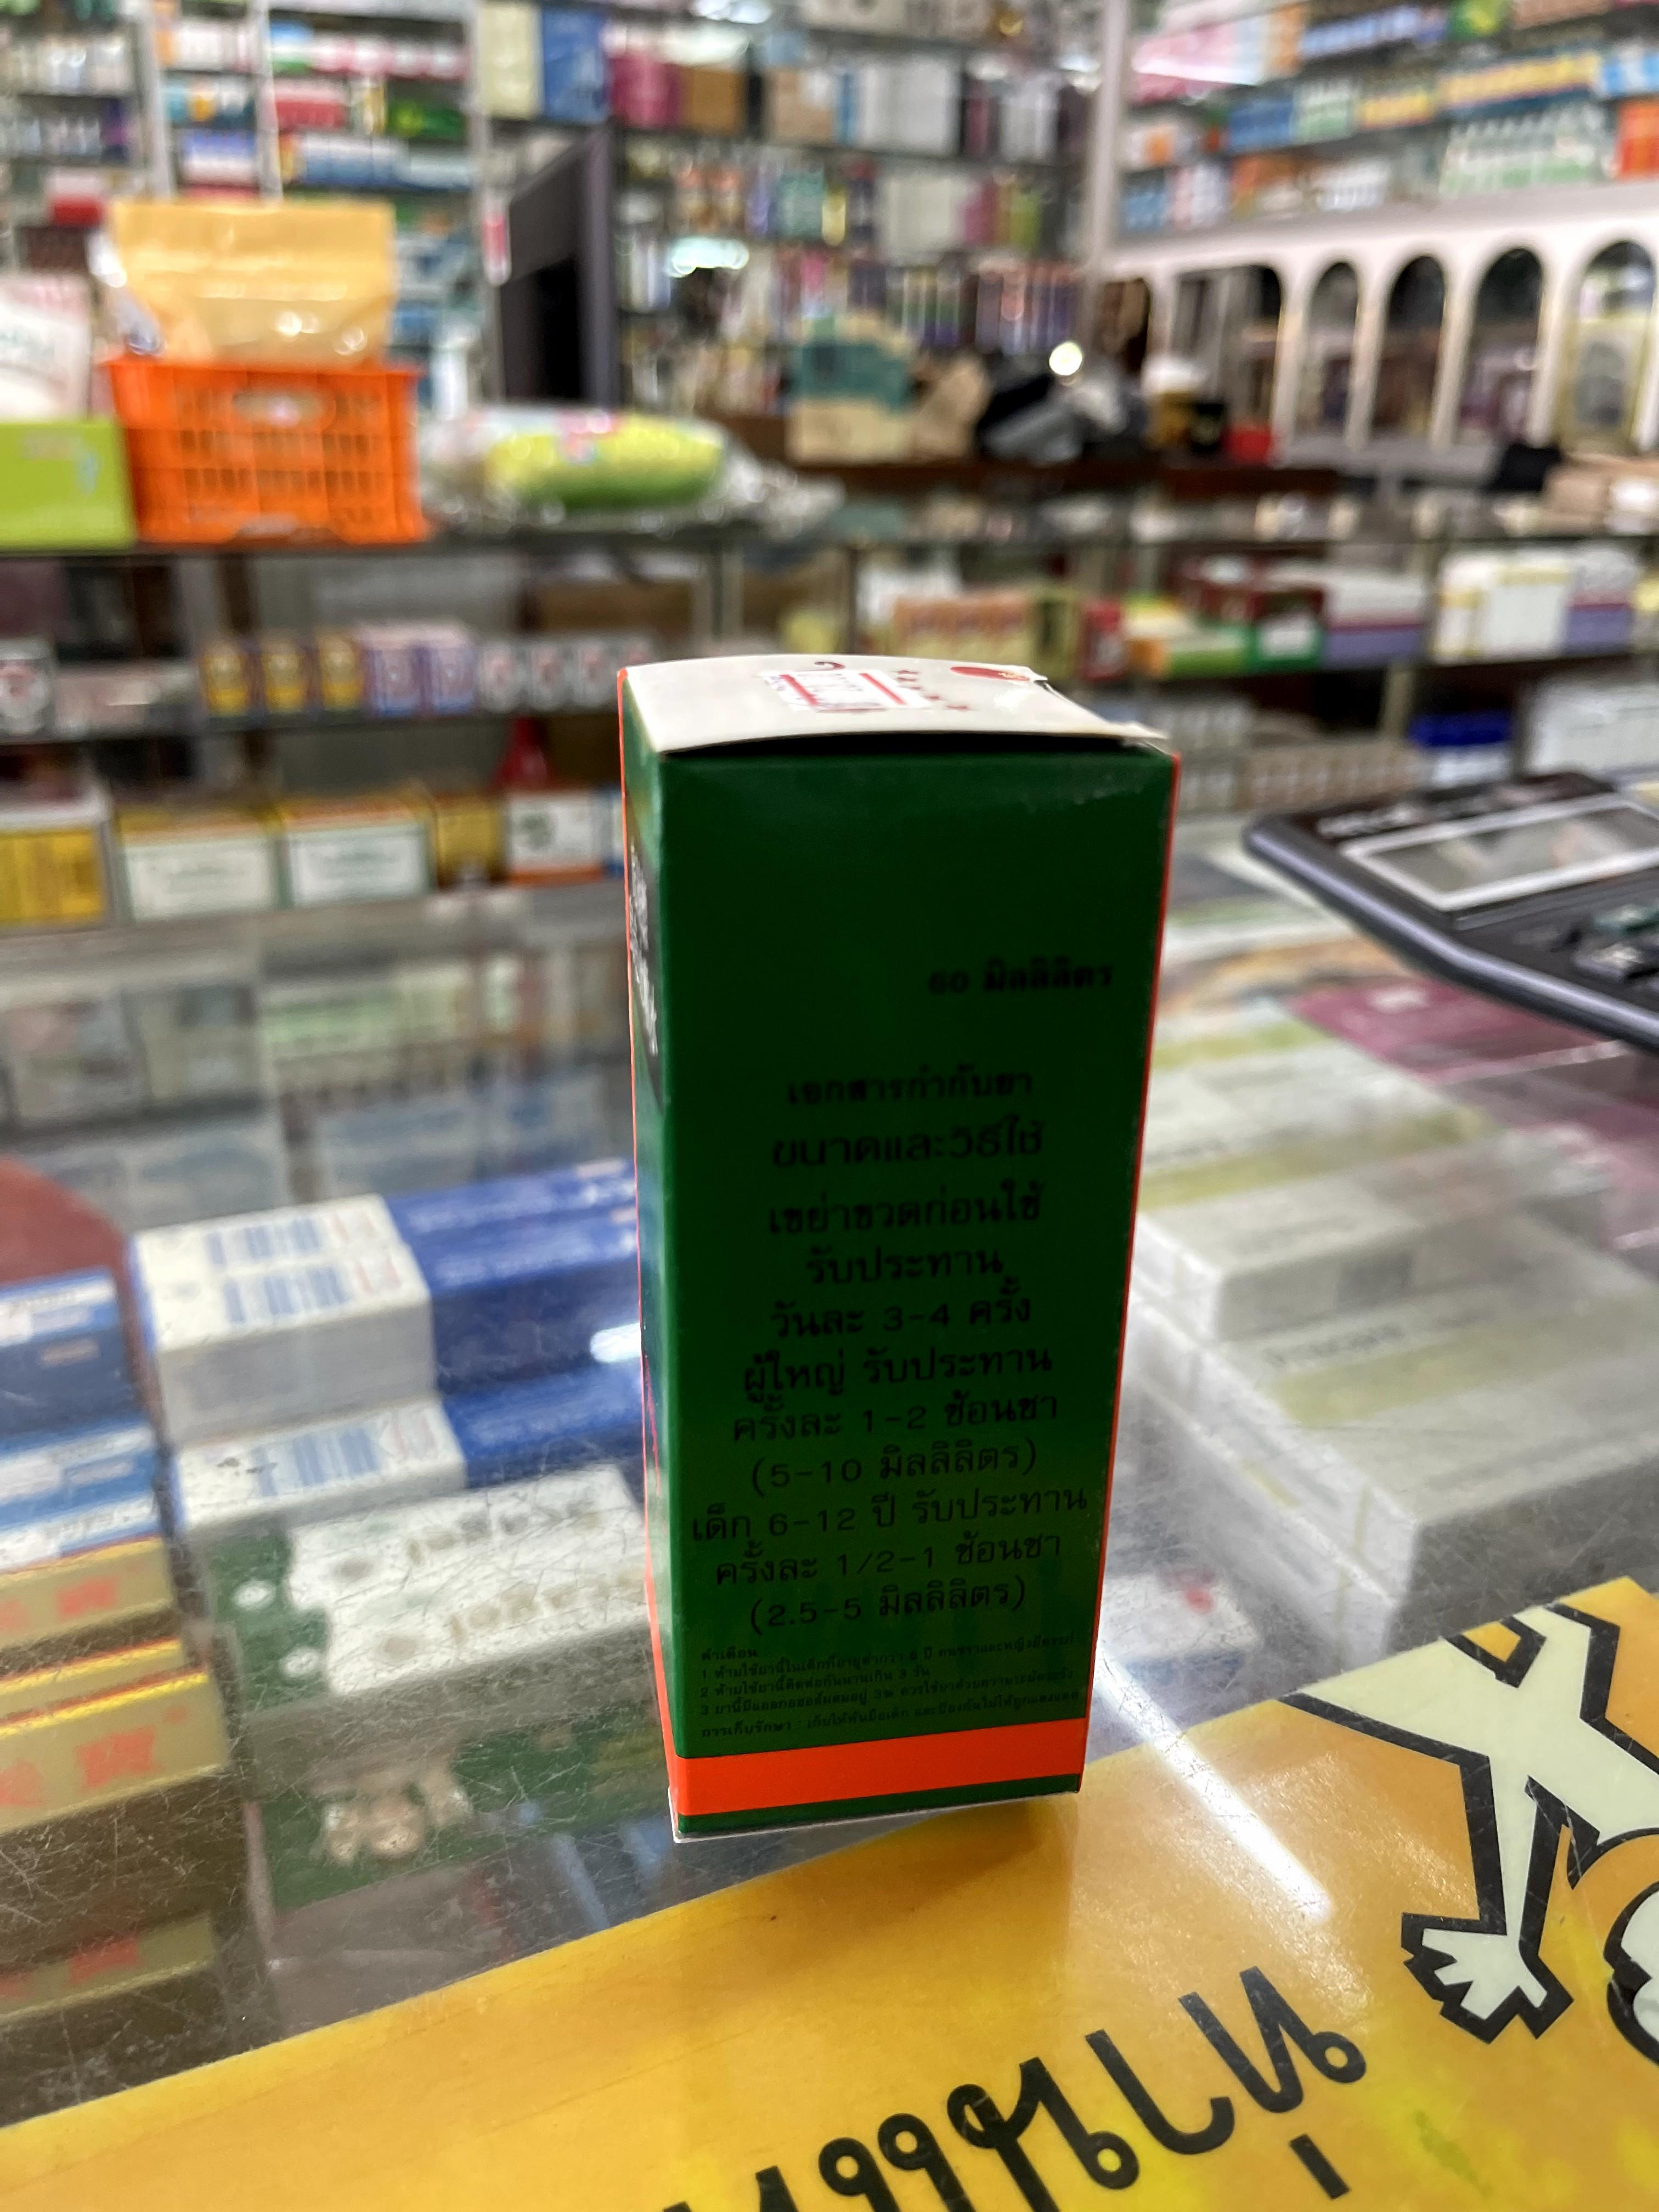Black-Tiger: (615, 653, 1176, 1836)
